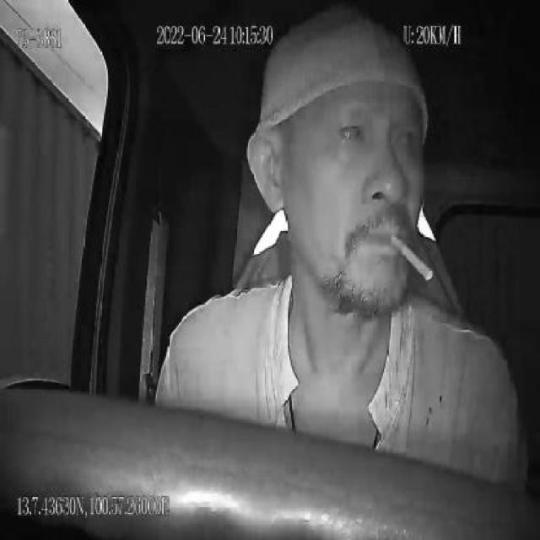smoking: (388, 232, 436, 286)
